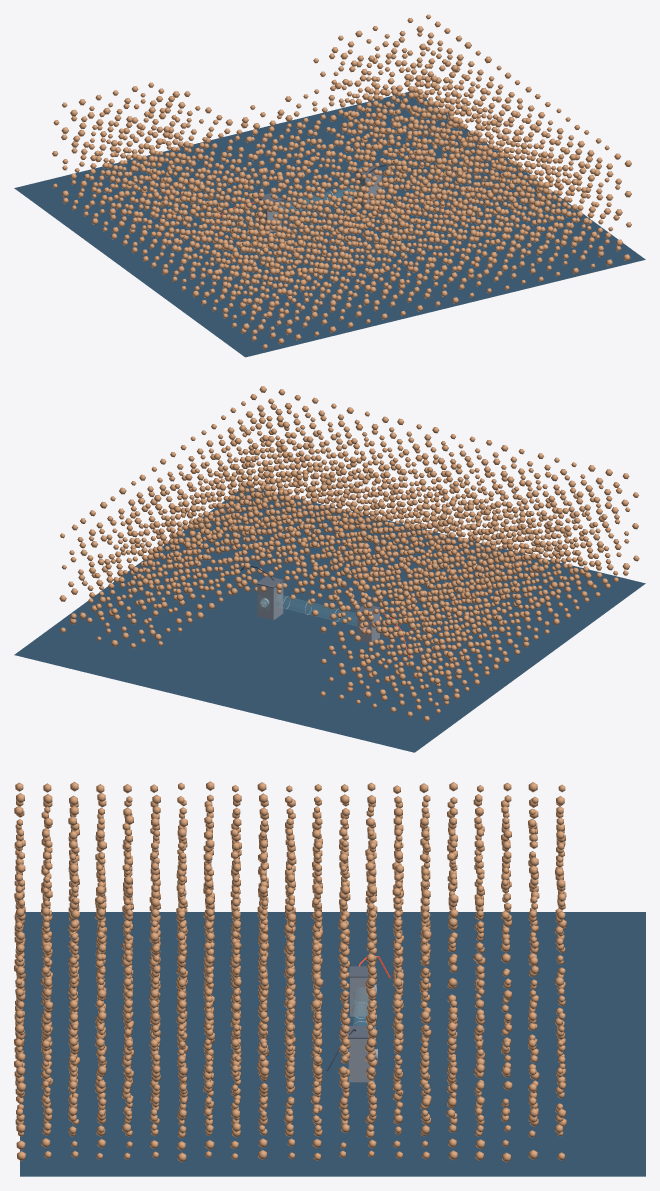
The model's file is InsideTheWire.fbx.
3 renders of one model, top to bottom at view 1: azimuth 30°, elevation 25°; view 2: azimuth 150°, elevation 25°; view 3: azimuth 270°, elevation 25°, orthographic. The views are drawn at different scales.
Parts seen in each view (by area): view 1: Copper_Lattice__2702_atoms_, Floor; view 2: Copper_Lattice__2702_atoms_, Floor, Conduit, Block; view 3: Floor, Copper_Lattice__2702_atoms_, Block, Block.001.
Boxes of the visible parts, box(x1,y1,x2,y2) form: Copper_Lattice__2702_atoms_: box(52, 14, 631, 349); Floor: box(14, 92, 645, 357); Copper_Lattice__2702_atoms_: box(59, 386, 639, 721); Floor: box(14, 486, 645, 752); Conduit: box(278, 595, 356, 625); Block: box(257, 582, 283, 620); Floor: box(20, 912, 645, 1176); Copper_Lattice__2702_atoms_: box(14, 781, 566, 1162); Block: box(348, 1039, 374, 1082); Block.001: box(350, 977, 369, 1016).
Size of the model in its own units: 44 by 12.12 by 44.41.
